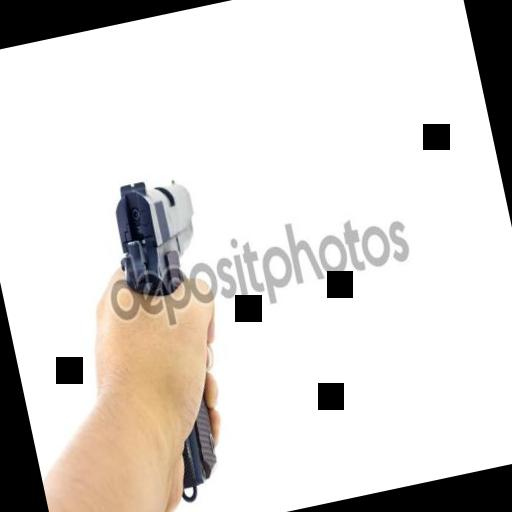Handgun: (92, 169, 260, 506)
